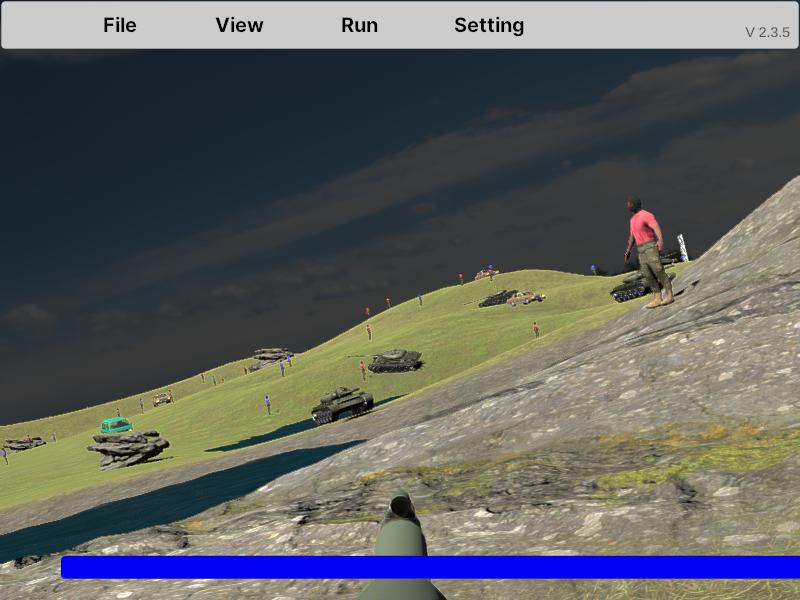Human: (625, 196, 675, 310)
Tank: (311, 386, 374, 425), (347, 348, 423, 374)
car: (507, 290, 547, 308)
